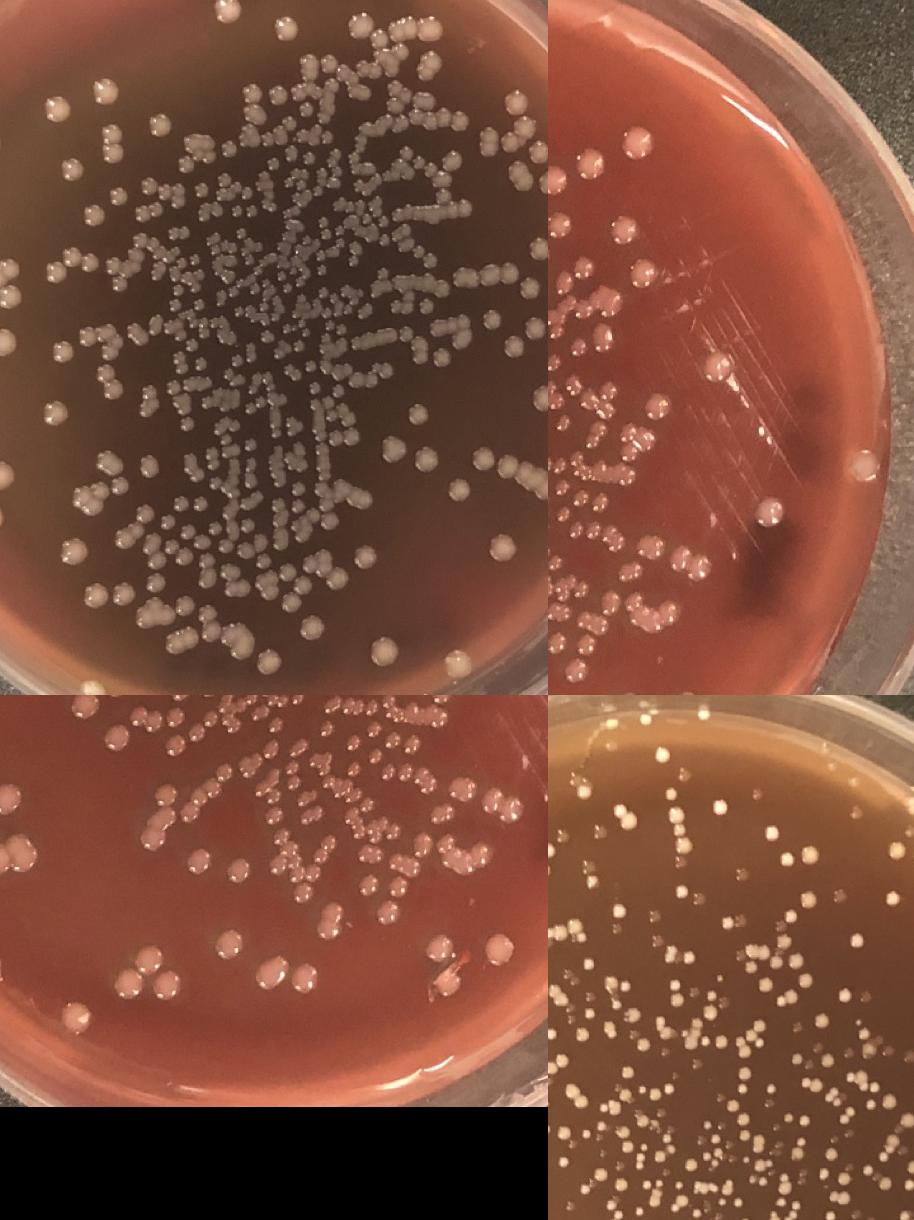assalmonicida: (178, 524, 216, 588), (42, 245, 100, 286), (93, 344, 125, 404), (502, 317, 544, 358), (277, 562, 310, 612), (346, 11, 388, 50), (78, 581, 134, 609), (146, 538, 192, 572), (0, 255, 24, 311), (96, 120, 124, 168), (724, 1097, 752, 1144), (666, 806, 692, 855), (174, 130, 202, 174), (54, 535, 88, 569), (365, 636, 400, 669), (241, 82, 286, 107), (744, 942, 782, 971), (430, 106, 470, 132), (484, 532, 516, 564), (384, 79, 412, 115), (77, 322, 114, 348), (89, 478, 129, 502), (58, 154, 86, 188), (144, 108, 172, 142), (272, 12, 300, 46), (196, 604, 220, 642), (42, 92, 70, 124), (90, 75, 118, 107), (42, 396, 68, 430), (321, 384, 344, 422), (468, 443, 496, 474), (280, 360, 316, 382), (316, 216, 344, 243), (550, 918, 582, 941), (46, 339, 72, 367), (254, 649, 282, 675), (350, 544, 378, 570), (377, 436, 405, 462), (412, 446, 438, 472), (212, 0, 240, 24), (298, 615, 324, 640), (281, 168, 308, 192), (171, 329, 199, 352), (327, 427, 360, 446), (93, 446, 117, 472), (136, 454, 160, 480), (564, 1084, 588, 1110), (82, 202, 105, 228), (525, 236, 548, 262), (228, 202, 260, 220), (438, 148, 462, 172), (478, 264, 502, 288), (512, 116, 536, 140), (167, 284, 186, 314), (529, 383, 548, 413), (504, 159, 528, 182), (525, 140, 548, 164), (516, 277, 541, 299), (289, 480, 304, 516), (0, 325, 16, 358), (112, 529, 136, 551), (132, 502, 154, 526), (136, 175, 158, 199), (316, 52, 338, 76), (430, 346, 452, 370), (446, 478, 470, 500), (734, 1065, 751, 1096), (479, 308, 502, 330), (548, 1051, 569, 1075), (548, 981, 568, 1006), (824, 1188, 850, 1207), (174, 594, 196, 616), (218, 561, 240, 583), (405, 404, 429, 424), (170, 351, 189, 376), (164, 226, 192, 242), (0, 459, 13, 493), (102, 254, 122, 274), (156, 514, 176, 534), (236, 540, 256, 560), (299, 554, 319, 574), (109, 186, 128, 206), (170, 494, 189, 514), (323, 320, 346, 336), (144, 574, 164, 592), (320, 511, 338, 531), (762, 823, 780, 842), (535, 171, 548, 197), (242, 341, 256, 365), (192, 181, 210, 199), (206, 474, 224, 492), (216, 537, 234, 555), (238, 517, 256, 535), (408, 108, 426, 126), (574, 782, 592, 800), (618, 811, 636, 829), (652, 746, 670, 764), (710, 798, 728, 816), (756, 976, 774, 994), (776, 851, 794, 869), (786, 951, 804, 969), (796, 972, 814, 990), (799, 844, 817, 862), (846, 931, 864, 949), (884, 890, 902, 908), (240, 471, 257, 490), (808, 1209, 837, 1220), (205, 519, 222, 537), (701, 1004, 718, 1022), (888, 840, 905, 858), (897, 1112, 914, 1130), (775, 933, 792, 950), (188, 466, 204, 484), (202, 445, 218, 463), (214, 172, 232, 188), (554, 1125, 572, 1141), (582, 874, 600, 890), (678, 950, 696, 966), (806, 1077, 824, 1093), (164, 376, 179, 395), (578, 955, 595, 971), (661, 785, 678, 801), (692, 707, 709, 723), (750, 1018, 767, 1034), (782, 988, 799, 1004), (789, 1147, 806, 1163), (834, 1171, 851, 1187), (179, 416, 194, 434), (193, 495, 208, 513), (296, 102, 311, 120), (572, 1027, 588, 1043), (592, 1166, 608, 1182), (602, 975, 618, 991), (602, 716, 618, 732), (604, 1100, 620, 1116), (612, 903, 628, 919), (614, 1124, 630, 1140), (624, 1006, 640, 1022), (634, 1113, 650, 1129), (634, 1036, 650, 1052), (636, 709, 652, 725), (646, 1086, 662, 1102), (672, 884, 688, 900), (682, 1034, 698, 1050), (718, 1182, 734, 1198), (736, 1043, 752, 1059), (762, 1082, 778, 1098), (798, 892, 814, 908), (814, 1012, 830, 1028), (862, 1042, 878, 1058), (880, 1094, 896, 1110), (192, 357, 209, 372), (146, 268, 164, 282), (228, 305, 246, 319), (242, 436, 256, 454), (256, 552, 270, 570), (674, 1193, 689, 1209), (720, 916, 736, 931), (783, 908, 798, 924), (836, 987, 852, 1002), (857, 1024, 872, 1040), (306, 379, 320, 396), (660, 950, 674, 966), (668, 977, 682, 993), (682, 1156, 698, 1170), (714, 1034, 728, 1050), (778, 1180, 792, 1196), (788, 1052, 802, 1068), (820, 1053, 834, 1069), (824, 1146, 838, 1162), (876, 1176, 892, 1190), (186, 252, 201, 266), (906, 1160, 914, 1185), (192, 298, 206, 312), (264, 157, 278, 171), (302, 151, 316, 165), (387, 300, 401, 314), (614, 1178, 628, 1192), (348, 241, 361, 254), (291, 340, 305, 352), (310, 186, 324, 198), (338, 363, 352, 375), (300, 234, 312, 246), (312, 250, 324, 262), (314, 264, 326, 276), (315, 167, 327, 179), (316, 287, 328, 299), (320, 131, 332, 143), (330, 165, 342, 177), (330, 149, 342, 161), (347, 256, 359, 268), (359, 213, 371, 225), (376, 234, 388, 246), (376, 215, 388, 227), (412, 246, 424, 258), (412, 157, 424, 169), (910, 845, 914, 862)
pddamselae: (552, 505, 628, 554), (364, 747, 439, 796), (180, 762, 234, 823), (266, 830, 321, 882), (562, 377, 617, 420), (552, 478, 610, 514), (364, 720, 422, 756), (252, 768, 284, 828), (596, 591, 650, 626), (408, 833, 462, 868), (550, 256, 594, 296), (572, 612, 610, 658), (384, 854, 422, 899), (666, 544, 712, 580), (478, 786, 524, 822), (0, 842, 37, 872), (548, 353, 566, 412), (237, 695, 305, 710), (316, 902, 342, 941), (554, 573, 590, 601), (366, 815, 402, 843), (187, 710, 218, 742), (342, 794, 376, 823), (620, 424, 655, 450), (574, 148, 602, 178), (135, 944, 163, 974), (138, 824, 166, 854), (184, 846, 212, 876), (128, 706, 162, 730), (114, 968, 142, 997), (560, 660, 588, 688), (589, 324, 617, 352), (628, 258, 656, 286), (636, 532, 664, 560), (703, 352, 731, 380), (849, 451, 877, 479), (62, 1001, 90, 1029), (102, 724, 130, 752), (214, 931, 242, 959), (223, 856, 251, 884), (256, 961, 284, 989), (288, 964, 316, 992), (372, 902, 400, 930), (426, 933, 454, 961), (448, 774, 476, 802), (154, 973, 182, 1000), (433, 972, 461, 999), (624, 128, 650, 157), (312, 834, 338, 863), (610, 214, 636, 242), (756, 500, 782, 528), (486, 935, 512, 963), (582, 421, 606, 450), (282, 758, 302, 792), (548, 210, 572, 238), (320, 697, 355, 716), (71, 695, 99, 718), (616, 562, 644, 584), (428, 804, 456, 826), (644, 390, 668, 414), (153, 784, 177, 808), (163, 732, 187, 756), (358, 872, 382, 896), (472, 841, 495, 865), (548, 165, 567, 193), (0, 784, 19, 812), (660, 599, 682, 623), (298, 804, 324, 824), (548, 630, 569, 654), (358, 845, 384, 864), (548, 603, 571, 622), (548, 552, 563, 581), (568, 336, 588, 356), (166, 708, 186, 728), (313, 718, 333, 738), (341, 734, 361, 752), (344, 760, 362, 780), (553, 414, 571, 433), (261, 741, 280, 759), (618, 444, 636, 462), (266, 716, 284, 734), (294, 885, 312, 903), (549, 457, 566, 475), (574, 302, 592, 319), (618, 470, 636, 487), (237, 757, 255, 774), (361, 699, 378, 717), (430, 712, 448, 728), (321, 773, 336, 791), (548, 324, 563, 339), (548, 353, 559, 373), (216, 699, 229, 715), (168, 695, 192, 703), (430, 695, 448, 703)
